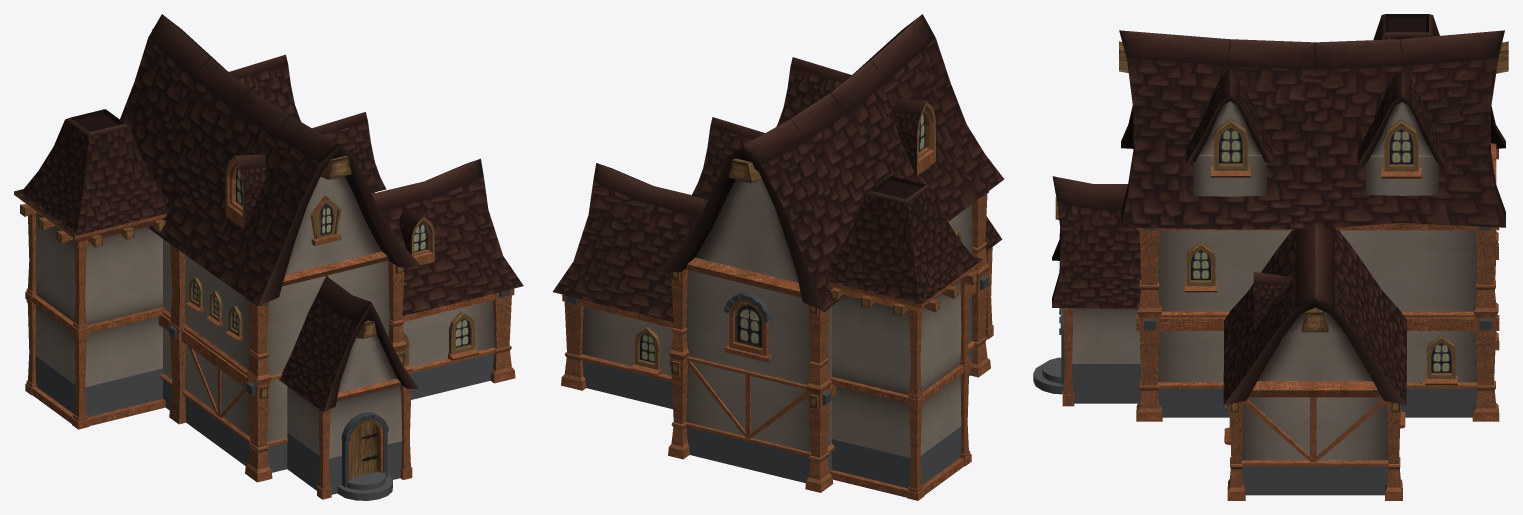
Rendered from fanasty_mod_village_building14.fbx.
The picture shows the model from 3 angles, left to right: view 1: azimuth 30°, elevation 25°; view 2: azimuth 150°, elevation 25°; view 3: azimuth 270°, elevation 25°; orthographic projection. The views are drawn at different scales.
Visible parts, largest first — view 1: village_building_014; view 2: village_building_014; view 3: village_building_014.
Boxes of the visible parts, <box> form: village_building_014: <box>14,14,523,500</box>; village_building_014: <box>553,14,1004,500</box>; village_building_014: <box>1033,14,1508,500</box>.
Bounding box in the file's own units: 16.03 × 12.52 × 15.33.
